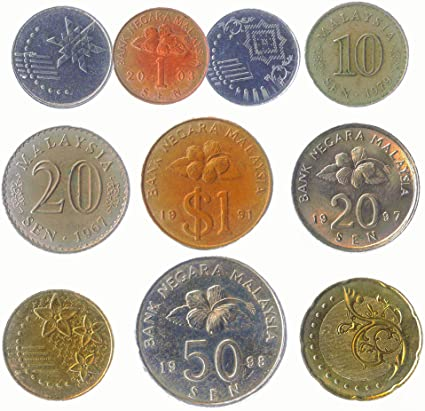10: (11, 6, 113, 110)
1c: (111, 6, 208, 105)
1r: (140, 116, 275, 250)
20: (290, 122, 421, 252), (1, 125, 130, 254), (3, 289, 115, 401)
5: (204, 7, 300, 107)
50: (135, 256, 288, 407), (299, 275, 422, 400)
